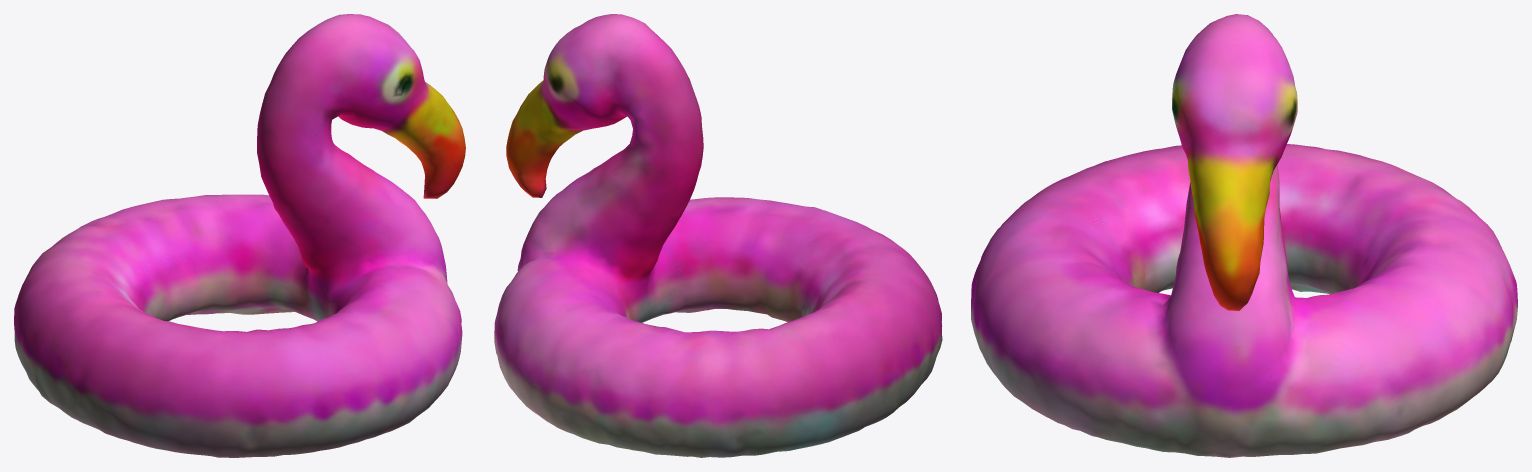
File: flamingo.glb
3 views of the same model, side by side, from view 1: azimuth 30°, elevation 25°; view 2: azimuth 150°, elevation 25°; view 3: azimuth 270°, elevation 25° (orthographic). The views are drawn at different scales.
Parts seen in each view (by area): view 1: Mesh1; view 2: Mesh1; view 3: Mesh1.
Part boxes in pixels (x1,y1,x2,y2): Mesh1: [14, 14, 465, 457]; Mesh1: [494, 14, 942, 457]; Mesh1: [971, 14, 1517, 457].
Size of the model in its own units: 1.2 by 0.9358 by 1.16.
Materials: 1 (1 with a texture image).
